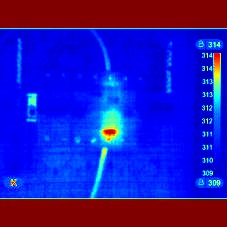Critical: (98, 108, 134, 147)
